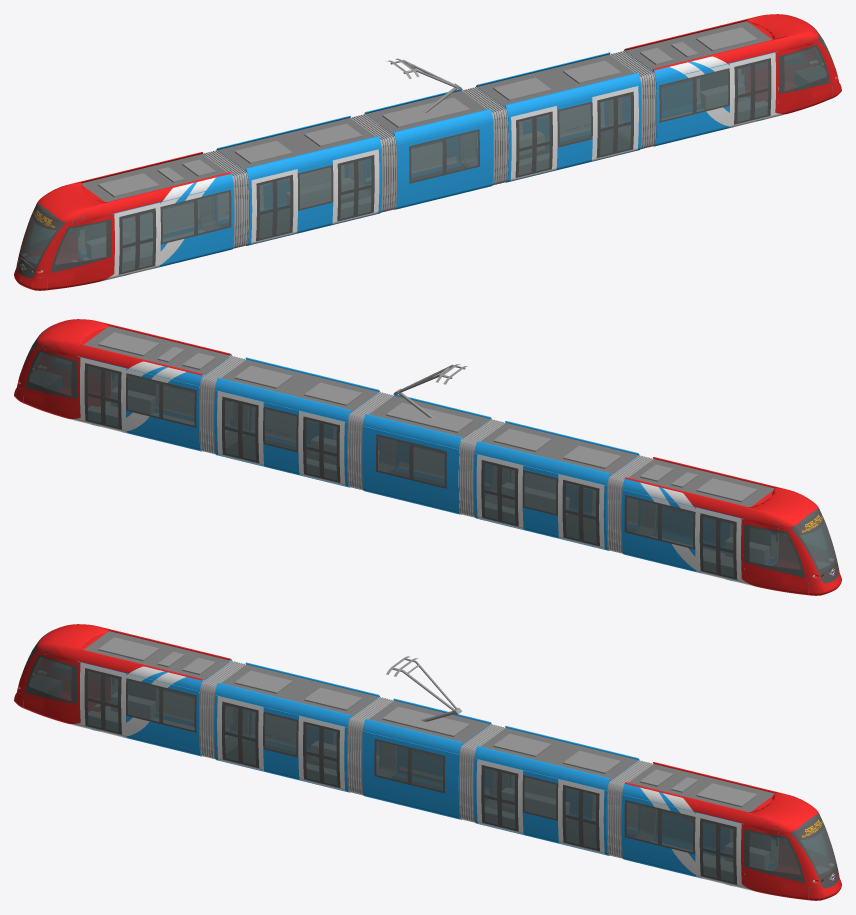
File: veh_lightrail.glb
3 renders of one model, top to bottom at view 1: azimuth 30°, elevation 25°; view 2: azimuth 150°, elevation 25°; view 3: azimuth 330°, elevation 25°, orthographic.
Visible parts, largest first — view 1: Object_291, Object_51, Object_622, Object_323, Object_587, Object_288, Object_590, Object_286, Object_327, Object_626, Object_290, Object_599 (+41 smaller); view 2: Object_291, Object_51, Object_622, Object_323, Object_587, Object_288, Object_590, Object_286, Object_327, Object_626, Object_46, Object_300 (+41 smaller); view 3: Object_590, Object_323, Object_622, Object_51, Object_288, Object_587, Object_291, Object_585, Object_626, Object_327, Object_46, Object_599 (+41 smaller).
Part boxes in pixels (<box>): Object_291: <box>14,181,111,290</box>; Object_51: <box>380,112,493,209</box>; Object_622: <box>518,95,630,175</box>; Object_323: <box>259,158,371,238</box>; Object_587: <box>661,61,768,122</box>; Object_288: <box>122,192,229,272</box>; Object_590: <box>747,14,841,113</box>; Object_286: <box>20,214,106,264</box>; Object_327: <box>216,116,381,245</box>; Object_626: <box>476,52,640,182</box>; Object_290: <box>17,203,156,277</box>; Object_599: <box>624,49,777,146</box>; Object_291: <box>744,486,841,595</box>; Object_51: <box>362,417,491,514</box>; Object_622: <box>225,400,337,480</box>; Object_323: <box>484,463,596,543</box>; Object_587: <box>87,366,194,427</box>; Object_288: <box>626,497,733,577</box>; Object_590: <box>14,319,108,418</box>; Object_286: <box>749,519,835,569</box>; Object_327: <box>474,421,639,550</box>; Object_626: <box>215,357,379,487</box>; Object_46: <box>378,436,444,486</box>; Object_300: <box>621,479,743,571</box>; Object_590: <box>744,791,841,900</box>; Object_323: <box>225,705,337,785</box>; Object_622: <box>484,768,596,848</box>; Object_51: <box>362,719,460,819</box>; Object_288: <box>87,671,194,732</box>; Object_587: <box>626,802,733,882</box>; Object_291: <box>14,624,108,723</box>; Object_585: <box>749,824,835,874</box>; Object_626: <box>474,726,639,855</box>; Object_327: <box>215,662,379,792</box>; Object_46: <box>376,741,443,791</box>; Object_599: <box>621,784,743,876</box>.
Size of the model in its own units: 34.85 by 5.28 by 2.58.
